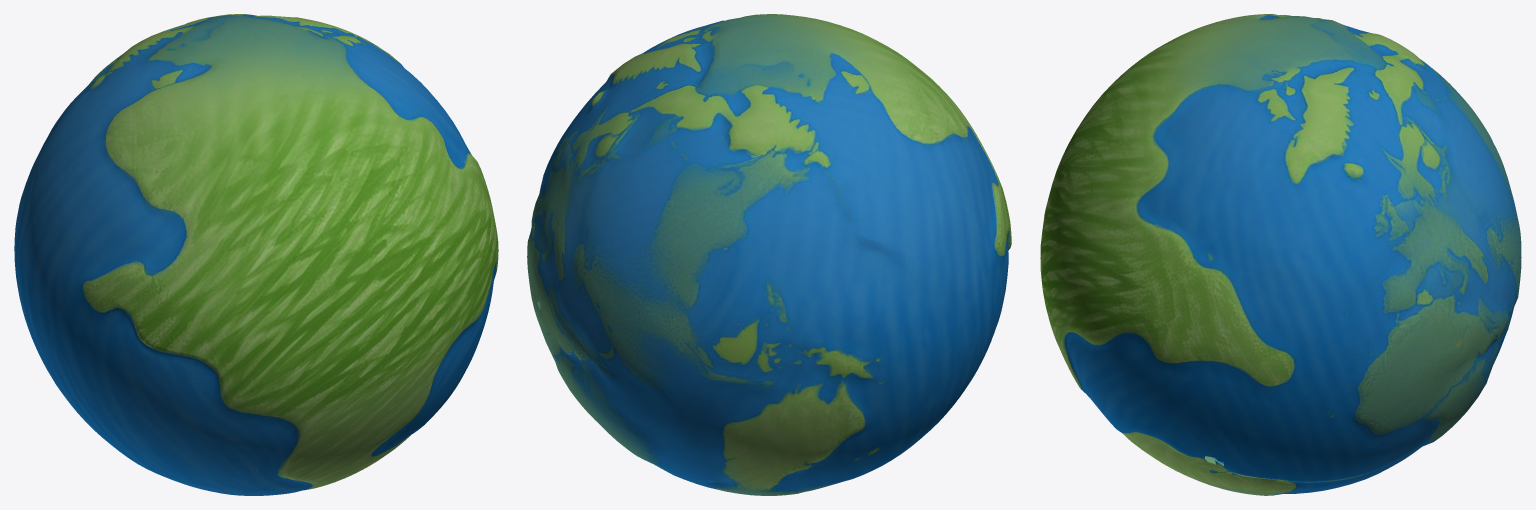
File: earth.glb
3 views of the same model, side by side, from view 1: azimuth 30°, elevation 25°; view 2: azimuth 150°, elevation 25°; view 3: azimuth 270°, elevation 25° (orthographic).
Visible parts, largest first — view 1: tripo_node_3384c5e6-c4db-4e82-8412-70ddd09e0c7a; view 2: tripo_node_3384c5e6-c4db-4e82-8412-70ddd09e0c7a; view 3: tripo_node_3384c5e6-c4db-4e82-8412-70ddd09e0c7a.
Boxes of the visible parts, x1,y1,x2,y2 form: tripo_node_3384c5e6-c4db-4e82-8412-70ddd09e0c7a: [14, 14, 498, 495]; tripo_node_3384c5e6-c4db-4e82-8412-70ddd09e0c7a: [527, 14, 1011, 495]; tripo_node_3384c5e6-c4db-4e82-8412-70ddd09e0c7a: [1040, 14, 1521, 495].
Bounding box in the file's own units: 0.9775 × 0.9759 × 0.9775.
Materials: 1 (1 with a texture image).
